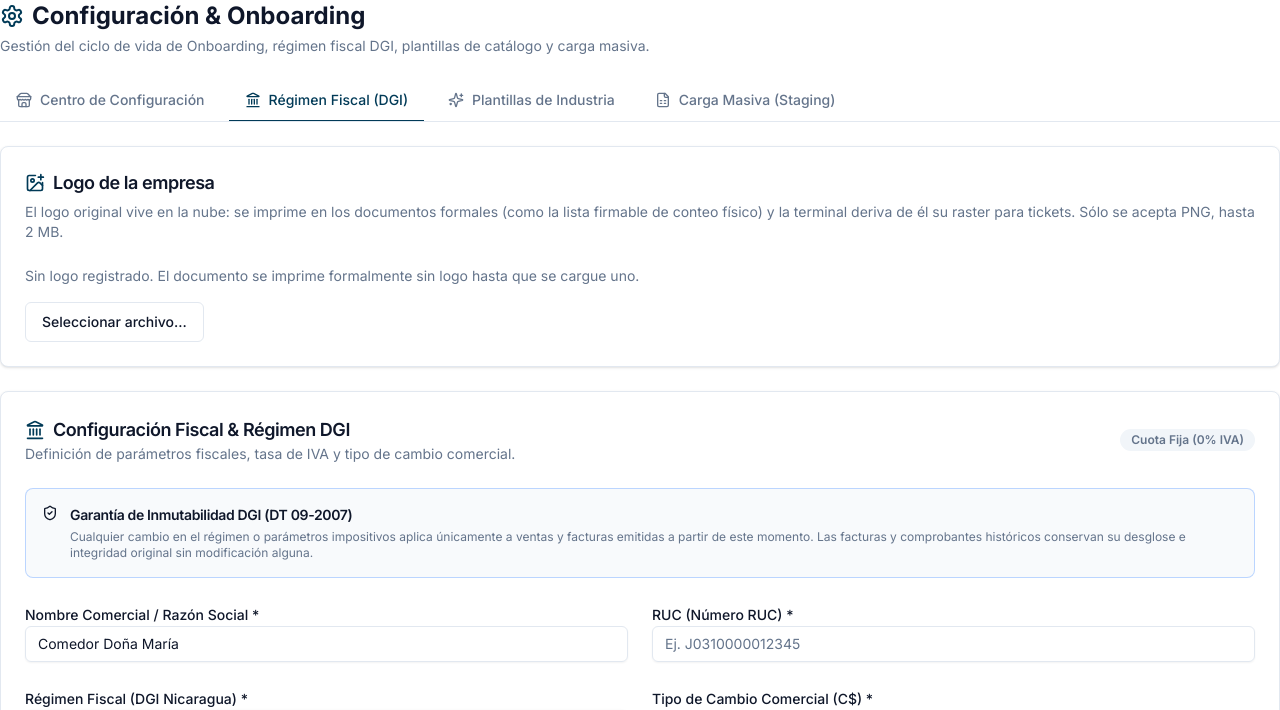
W9 E2E — Complete Fiscal Setup, Industry Templates & Bulk Import Lifecycle › completes Journey 2: Applies Industry Template and verifies catalog injection (ODAV-34)
# Switch to Templates tab
Step 1. Click the tab with test id "tab-templates" → (531, 101), box 432,80 -> 631,122
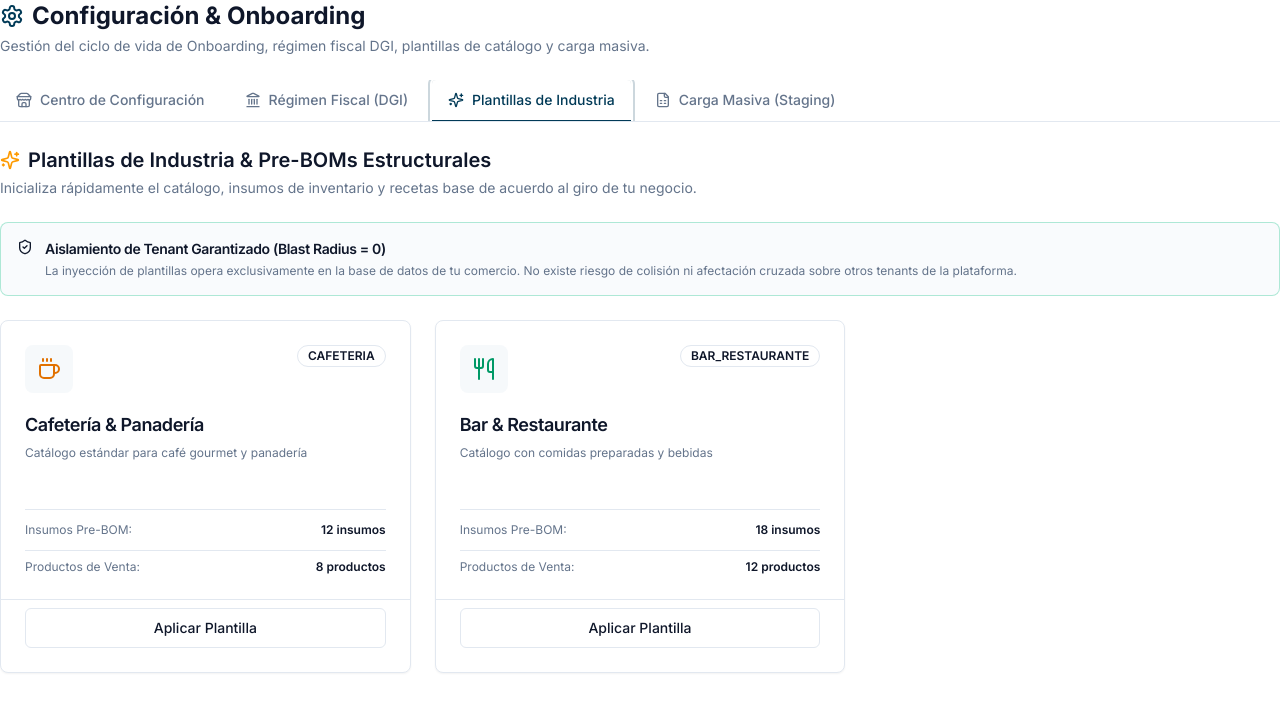
Check: the element with test id "template-card-CAFETERIA" is shown, box 0,320 -> 411,673
# Open apply dialog
Step 2. Click the button with test id "apply-template-btn-CAFETERIA" → (205, 628), box 25,608 -> 386,648
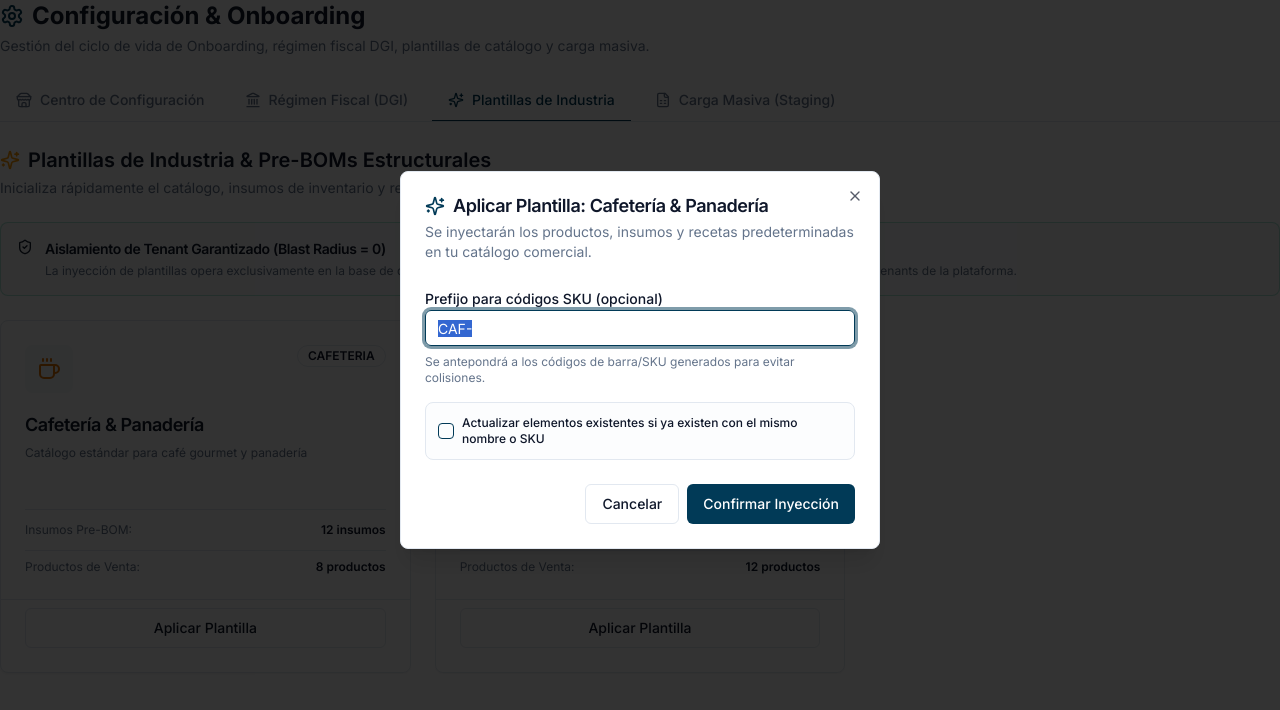
Step 3. Replace the text in the field with test id "prefix-sku-input" with "CAFE-" → (640, 328), box 425,310 -> 855,346
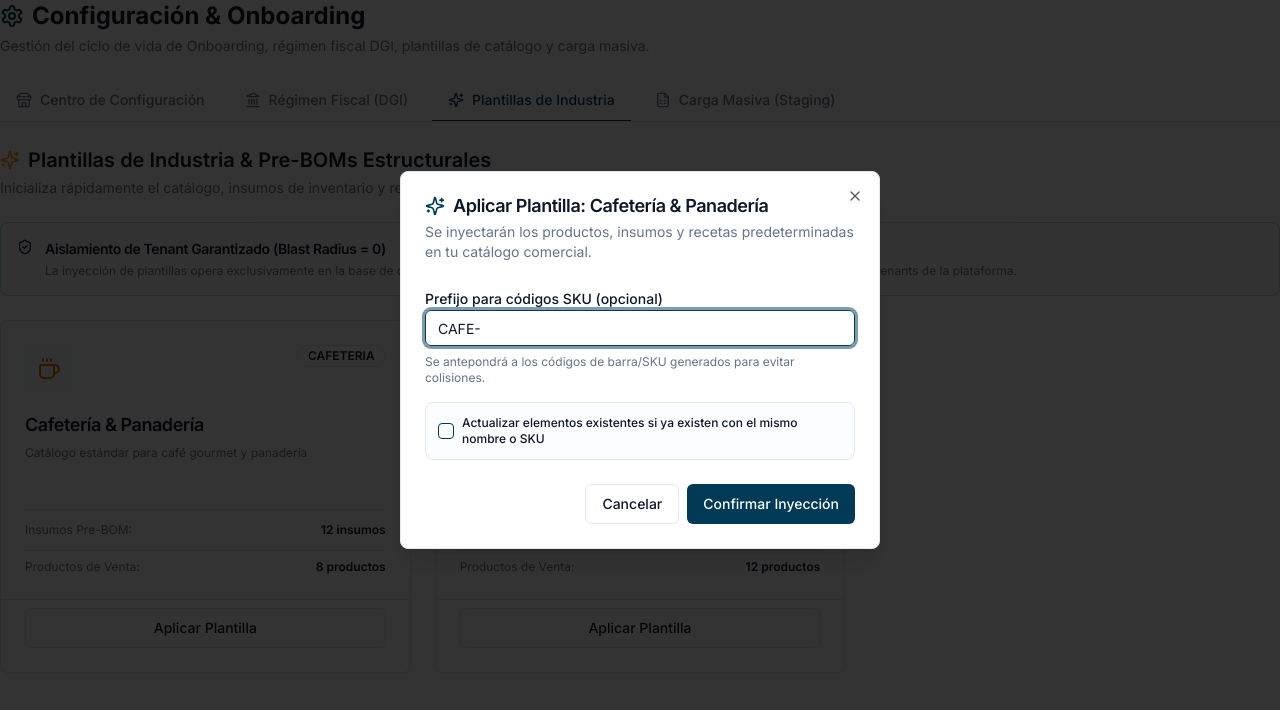
# Confirm apply
Step 4. Click the button with test id "confirm-apply-template-btn" → (771, 504), box 687,484 -> 855,524
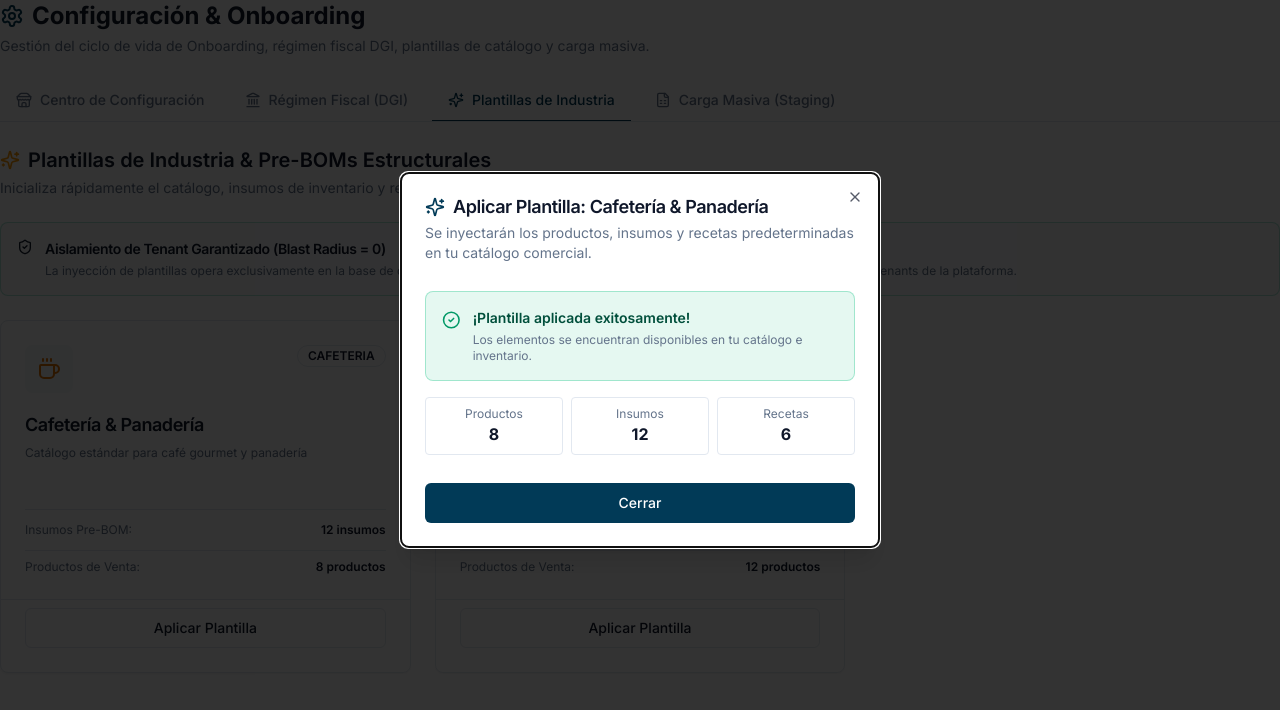
Check: the element with test id "apply-template-result" is shown, box 425,279 -> 855,467
